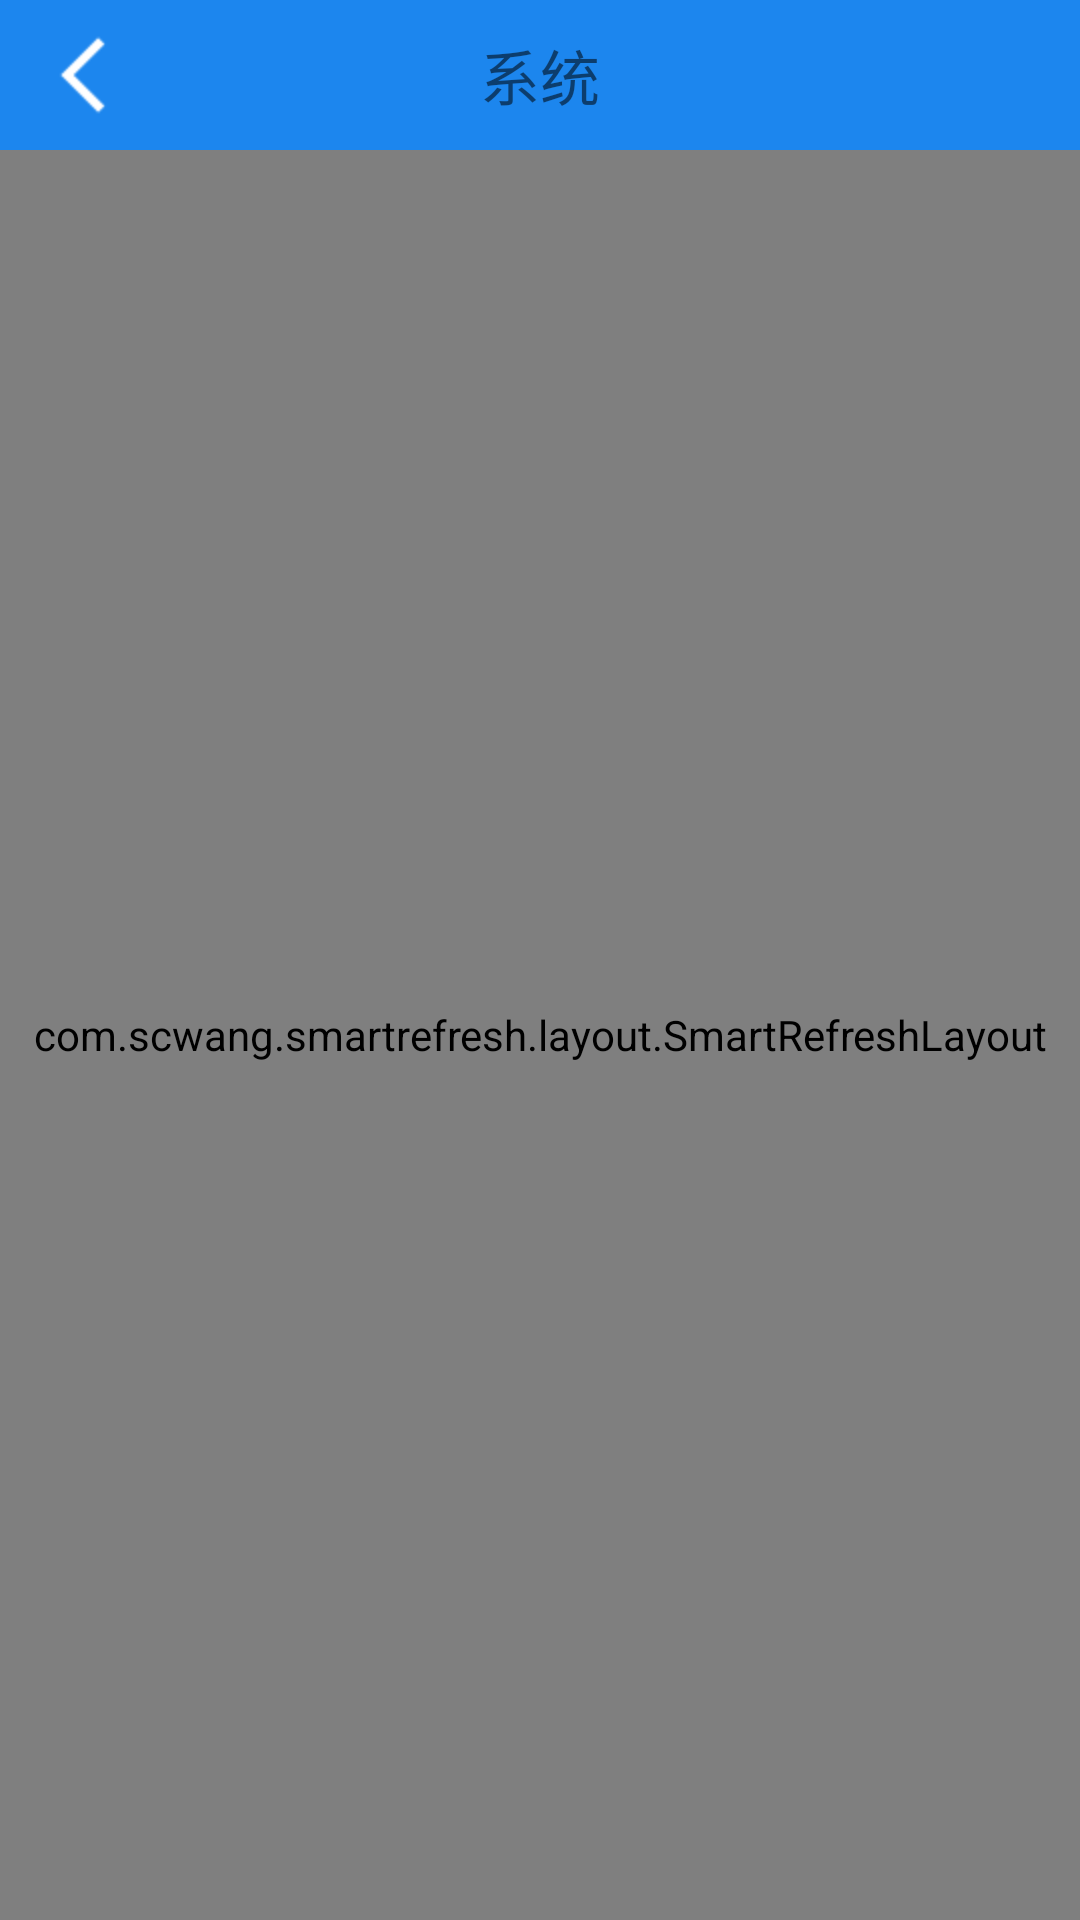

Named icons in this screenshot (1080×1920) and their bounding boxes, {"x1": x1, "y1": y1, "x2": x2, "y2": y2}:
fanhui: {"x1": 60, "y1": 37, "x2": 105, "y2": 113}
